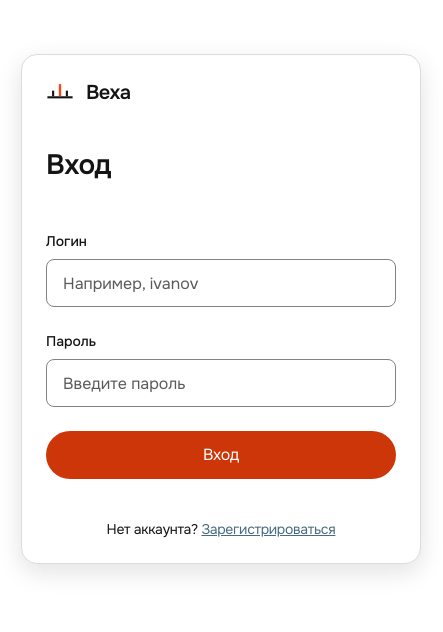
Test: LoginPage › shows error message on failed login
This screenshot has width=443, height=632.
Type "wrong" into the field labelled "Логин" at (221, 283), box [46, 259, 396, 307]
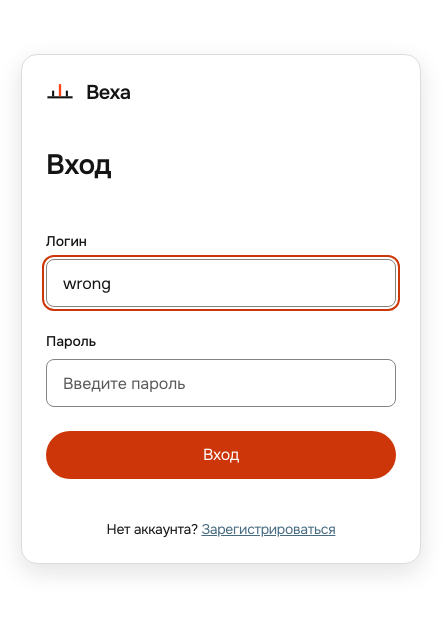
Type "wrong" into the password field labelled "Пароль" at (221, 383), box [46, 359, 396, 407]
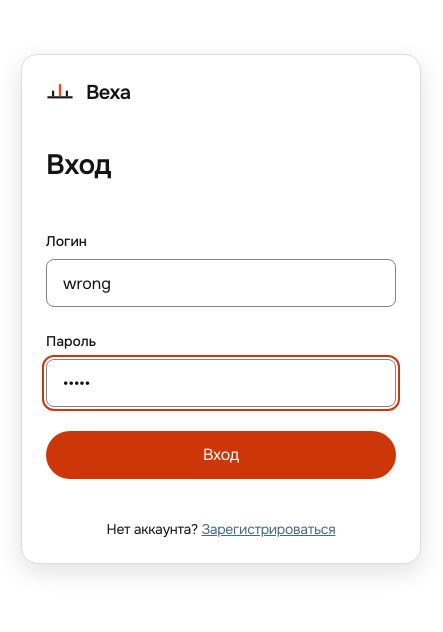
Click the button "Вход" at (221, 455), box [46, 431, 396, 479]
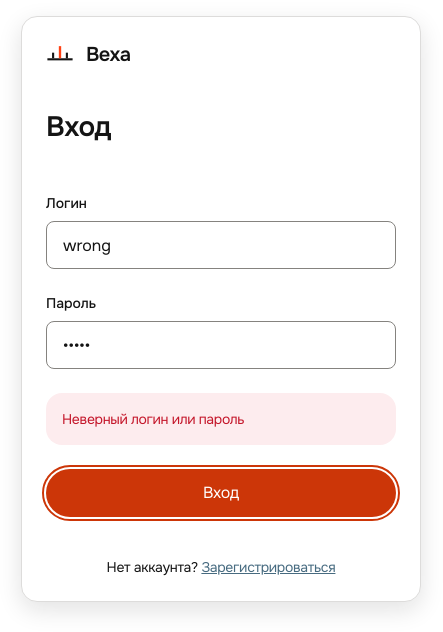
Now the text "Неверный логин или пароль" is shown, box [46, 393, 396, 445]
